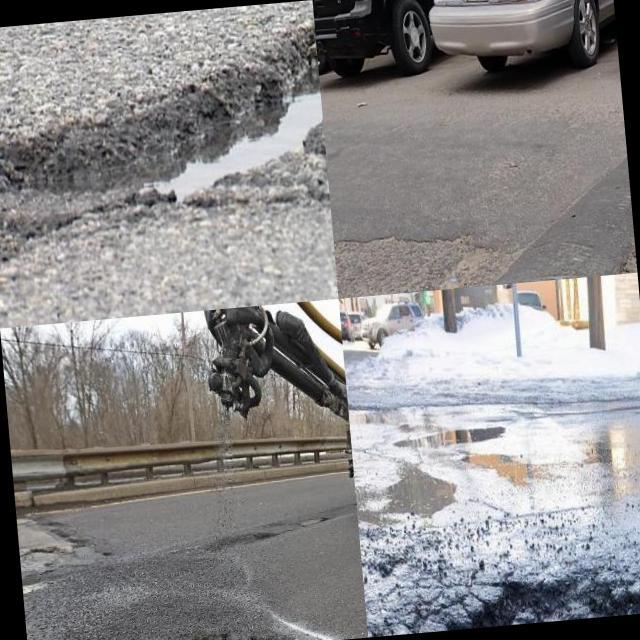Pothole: (0, 25, 323, 203)
